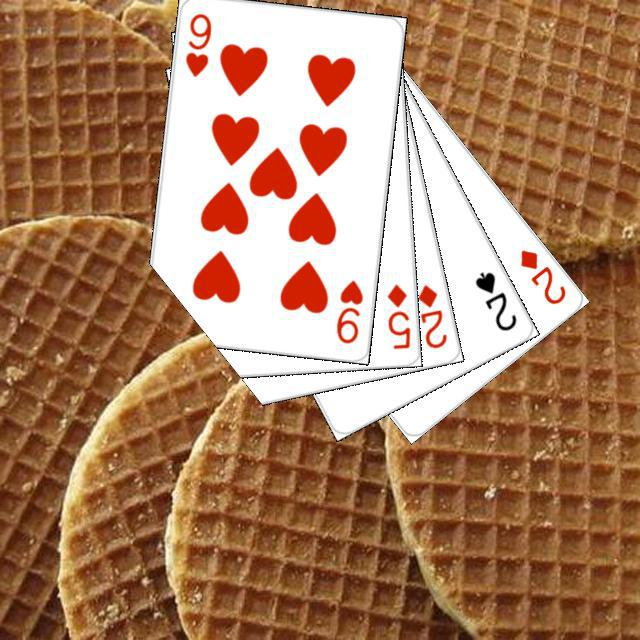2d: (515, 244, 568, 307), (412, 279, 449, 351)
2s: (469, 266, 519, 333)
5d: (382, 279, 412, 351)
9h: (331, 274, 365, 346), (180, 8, 213, 79)
